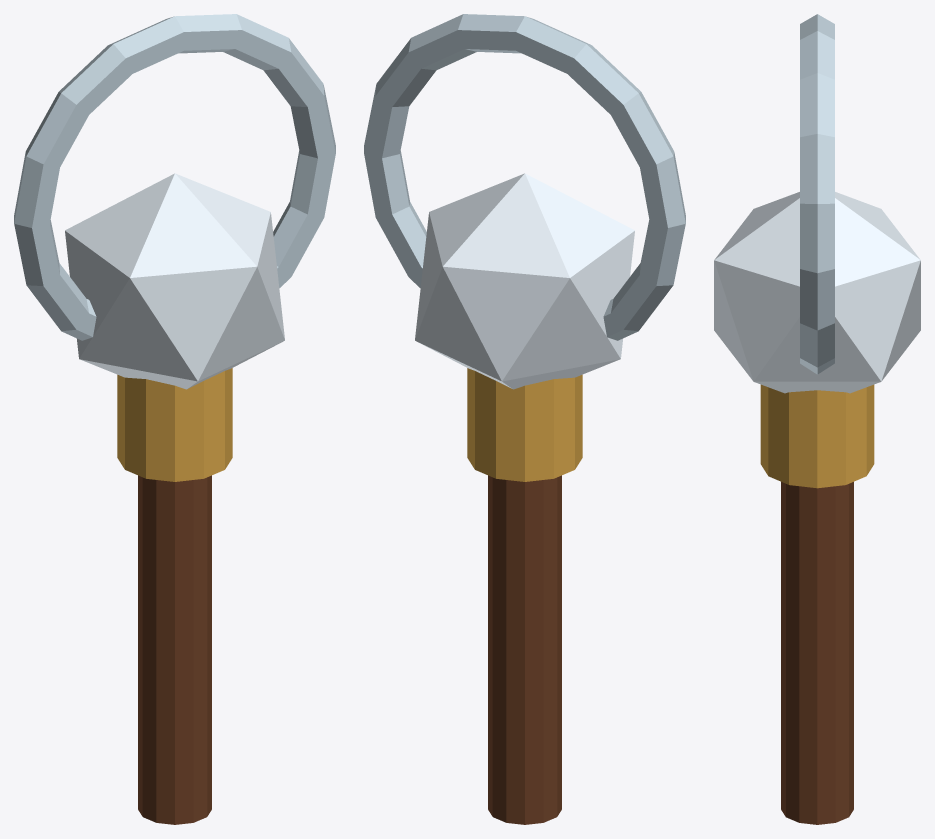
File: cloud-baton-1.glb
3 renders of one model, left to right at view 1: azimuth 30°, elevation 25°; view 2: azimuth 150°, elevation 25°; view 3: azimuth 270°, elevation 25°, orthographic.
Visible parts, largest first — view 1: Icosphere, Torus.001, Cylinder, Cylinder.001; view 2: Icosphere, Torus.001, Cylinder, Cylinder.001; view 3: Icosphere, Cylinder, Torus.001, Cylinder.001.
Boxes of the visible parts, x1,y1,x2,y2 form: Icosphere: (65,173,284,389); Torus.001: (14,14,335,340); Cylinder: (138,475,211,824); Cylinder.001: (117,368,232,481); Icosphere: (415,173,634,389); Torus.001: (364,14,685,340); Cylinder: (488,475,561,824); Cylinder.001: (467,368,582,481); Icosphere: (714,192,920,393); Cylinder: (781,482,853,824); Torus.001: (800,14,834,374); Cylinder.001: (760,384,874,488).
Bounding box in the file's own units: 0.45 × 1.06 × 0.2552.
